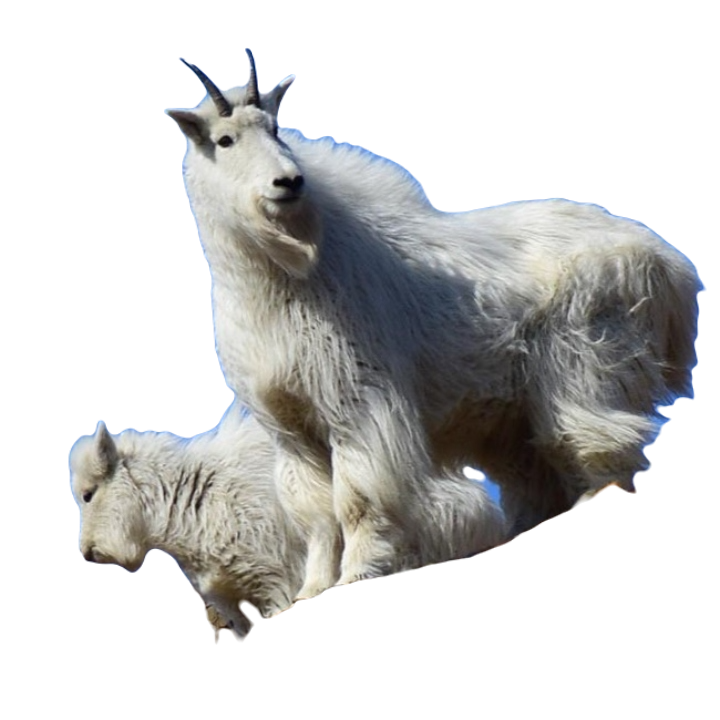Goat: (163, 43, 704, 602)
